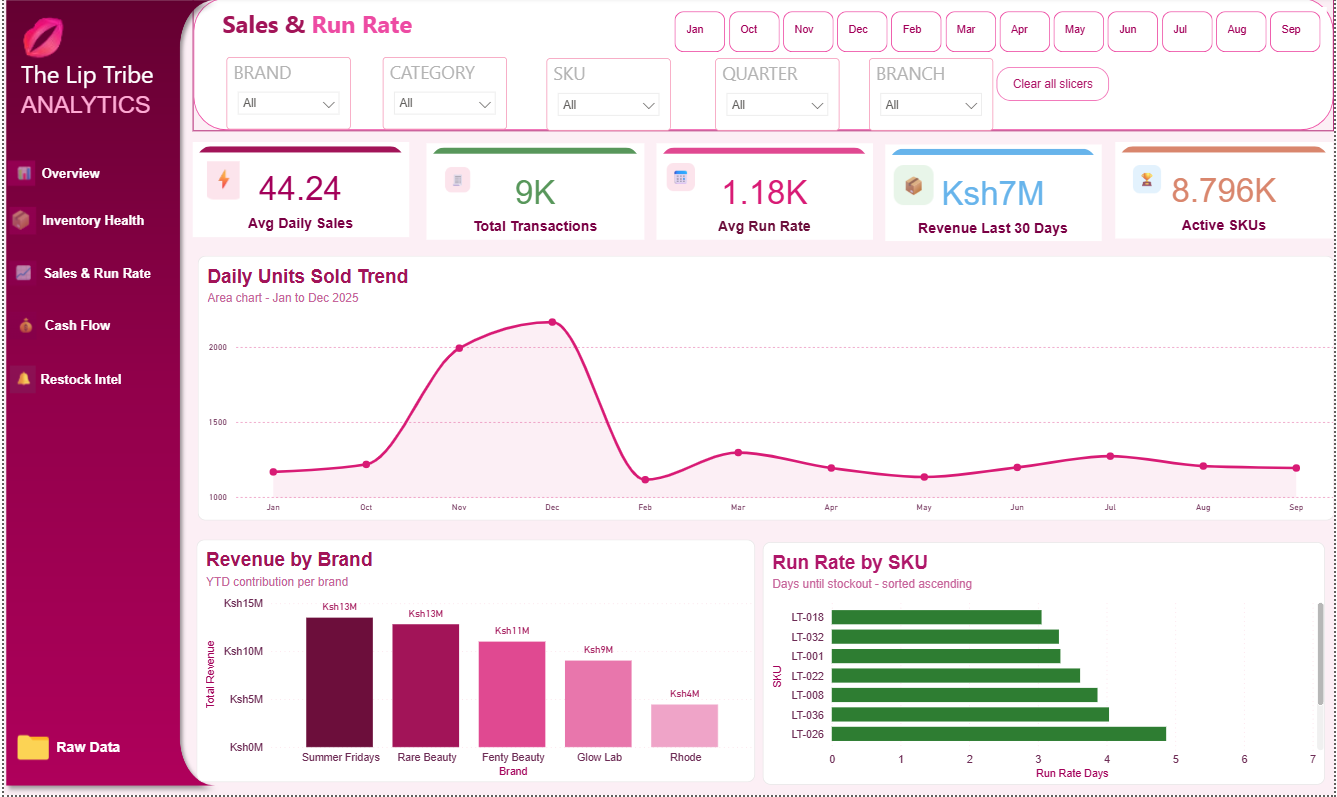

This screenshot's page, from the dashboard's own definition file:
{"tool":"powerbi","page":{"name":"Sales & Run Rate","canvas":[1500,900],"ordinal":2},"visuals":[{"type":"textbox","box":[240.4,7.6,404.9,52.9],"z":0,"group":"g8"},{"type":"group","id":"g1","title":"Group 1","box":[212.5,163.6,244,107],"z":0,"group":"g6"},{"type":"advancedSlicerVisual","fields":{"Values":["Calendar.Month_Short"]},"box":[750.5,11.6,739.8,56.1],"z":1000,"group":"g8"},{"type":"group","id":"g2","title":"Group 2","box":[475.5,165.1,245.7,108.5],"z":1000,"group":"g6"},{"type":"areaChart","title":"Daily Units Sold Trend","fields":{"Category":["Calendar.Month_Short"],"Y":["Sales.Total Units Sold"]},"box":[218.6,292,1280.9,298.1],"z":1000},{"type":"shape","box":[212.5,0,1287,151.3],"z":2000},{"type":"slicer","title":"BRAND","fields":{"Values":["Products.Brand"]},"box":[249.8,67.7,140.3,81.8],"z":2000,"group":"g8"},{"type":"group","id":"g3","title":"Group 3","box":[735,165.1,244,108.5],"z":2000,"group":"g6"},{"type":"image","box":[0,0,246.1,900.3],"z":3000},{"type":"slicer","title":"CATEGORY","fields":{"Values":["Products.Category"]},"box":[426.5,67.7,140.3,81.8],"z":3000,"group":"g8"},{"type":"group","id":"g4","title":"Group 4","box":[992.8,166.7,244,108.5],"z":3000,"group":"g6"},{"type":"columnChart","title":"Revenue by Brand","fields":{"Category":["Products.Brand"],"Y":["Sales.Total Revenue"]},"box":[217.1,611.4,630,273.6],"z":3000,"group":"g7"},{"type":"textbox","title":"The Lip Tribe","box":[13.8,67.3,304.2,39.7],"z":4000},{"type":"slicer","title":"QUARTER","fields":{"Values":["Calendar.Quarter"]},"box":[800.8,69.3,140.3,81.8],"z":4000,"group":"g8"},{"type":"group","id":"g5","title":"Group 5","box":[1252.3,163.6,245.7,108.5],"z":4000,"group":"g6"},{"type":"slicer","title":"SKU","fields":{"Values":["Products.SKU"]},"box":[610.2,69.3,140.3,81.8],"z":5000,"group":"g8"},{"type":"textbox","title":"ANALYTICS","box":[13.8,107,293.5,44.3],"z":5000},{"type":"barChart","title":"Run Rate by SKU","fields":{"Category":["Products.SKU"],"Y":["Sales.Run Rate Days"]},"box":[855.4,613.9,633.6,273.4],"z":5000,"group":"g7"},{"type":"image","box":[0,7.6,89.2,71.3],"z":6000},{"type":"slicer","title":"BRANCH","fields":{"Values":["Products.Branch"]},"box":[974,69.3,140.3,81.8],"z":6000,"group":"g8"},{"type":"actionButton","box":[0,179.6,150.3,39.5],"z":7000},{"type":"actionButton","box":[1.3,231.8,198.7,39.5],"z":8000},{"type":"actionButton","box":[1.3,291.7,168.1,39.5],"z":9000},{"type":"actionButton","box":[1.3,350.3,122.3,39.5],"z":10000},{"type":"actionButton","box":[1.3,411.4,135,39.5],"z":11000},{"type":"group","id":"g6","title":"Group 6","box":[212.5,163.6,1285.5,111.6],"z":12000},{"type":"group","id":"g7","title":"Group 8","box":[217.1,611.4,1271.9,275.9],"z":13000},{"type":"group","id":"g8","title":"Group 9","box":[10.7,7.6,1479.6,860.6],"z":14000},{"type":"cardVisual","fields":{"Data":["Sales.Total Transactions"]},"box":[475.5,165.1,245.7,108.5],"z":14000,"group":"g2"},{"type":"actionButton","box":[1118.9,79.5,126.9,38.2],"z":15000},{"type":"cardVisual","fields":{"Data":["Sales.Avg Daily Sales"]},"box":[212.5,163.6,244,107],"z":15000,"group":"g1"},{"type":"image","box":[485.4,184.2,59.6,45.9],"z":15002,"group":"g6"},{"type":"cardVisual","fields":{"Data":["Sales.Avg Run Rate"]},"box":[735,165.1,244,108.5],"z":16000,"group":"g3"},{"type":"image","box":[218.7,180.1,57.9,53.1],"z":16000},{"type":"actionButton","box":[10.7,824.9,123.8,43.3],"z":16008,"group":"g8"},{"type":"image","box":[739.8,178.8,47.4,50.4],"z":17000},{"type":"image","box":[973.7,178.8,102.4,67.3],"z":18000},{"type":"image","box":[1253.4,178.8,71.8,53.5],"z":19000},{"type":"cardVisual","fields":{"Data":["Sales.Revenue Last 30 Days"]},"box":[992.8,166.7,244,108.5],"z":20000,"group":"g4"},{"type":"cardVisual","fields":{"Data":["CountNonNull(Sales.SKU)"]},"box":[1252.3,163.6,245.7,108.5],"z":22000,"group":"g5"}]}

Visuals, with their boxes on the page's 1500x900 design canvas (x1, y1, x2, y2). These are canvas units, not pixel positions in the 1337x797 screenshot, which may show the page scaled, cropped or inside an application window:
textbox: <bbox>240, 8, 645, 60</bbox>
"Group 1" group: <bbox>212, 164, 456, 271</bbox>
advancedSlicerVisual - Calendar.Month_Short: <bbox>750, 12, 1490, 68</bbox>
"Group 2" group: <bbox>476, 165, 721, 274</bbox>
"Daily Units Sold Trend" areaChart: <bbox>219, 292, 1500, 590</bbox>
shape: <bbox>212, 0, 1500, 151</bbox>
"BRAND" slicer: <bbox>250, 68, 390, 150</bbox>
"Group 3" group: <bbox>735, 165, 979, 274</bbox>
image: <bbox>0, 0, 246, 900</bbox>
"CATEGORY" slicer: <bbox>426, 68, 567, 150</bbox>
"Group 4" group: <bbox>993, 167, 1237, 275</bbox>
"Revenue by Brand" columnChart: <bbox>217, 611, 847, 885</bbox>
"The Lip Tribe" textbox: <bbox>14, 67, 318, 107</bbox>
"QUARTER" slicer: <bbox>801, 69, 941, 151</bbox>
"Group 5" group: <bbox>1252, 164, 1498, 272</bbox>
"SKU" slicer: <bbox>610, 69, 750, 151</bbox>
"ANALYTICS" textbox: <bbox>14, 107, 307, 151</bbox>
"Run Rate by SKU" barChart: <bbox>855, 614, 1489, 887</bbox>
image: <bbox>0, 8, 89, 79</bbox>
"BRANCH" slicer: <bbox>974, 69, 1114, 151</bbox>
actionButton: <bbox>0, 180, 150, 219</bbox>
actionButton: <bbox>1, 232, 200, 271</bbox>
actionButton: <bbox>1, 292, 169, 331</bbox>
actionButton: <bbox>1, 350, 124, 390</bbox>
actionButton: <bbox>1, 411, 136, 451</bbox>
"Group 6" group: <bbox>212, 164, 1498, 275</bbox>
"Group 8" group: <bbox>217, 611, 1489, 887</bbox>
"Group 9" group: <bbox>11, 8, 1490, 868</bbox>
cardVisual - Sales.Total Transactions: <bbox>476, 165, 721, 274</bbox>
actionButton: <bbox>1119, 80, 1246, 118</bbox>
cardVisual - Sales.Avg Daily Sales: <bbox>212, 164, 456, 271</bbox>
image: <bbox>485, 184, 545, 230</bbox>
cardVisual - Sales.Avg Run Rate: <bbox>735, 165, 979, 274</bbox>
image: <bbox>219, 180, 277, 233</bbox>
actionButton: <bbox>11, 825, 134, 868</bbox>
image: <bbox>740, 179, 787, 229</bbox>
image: <bbox>974, 179, 1076, 246</bbox>
image: <bbox>1253, 179, 1325, 232</bbox>
cardVisual - Sales.Revenue Last 30 Days: <bbox>993, 167, 1237, 275</bbox>
cardVisual - CountNonNull(Sales.SKU): <bbox>1252, 164, 1498, 272</bbox>
